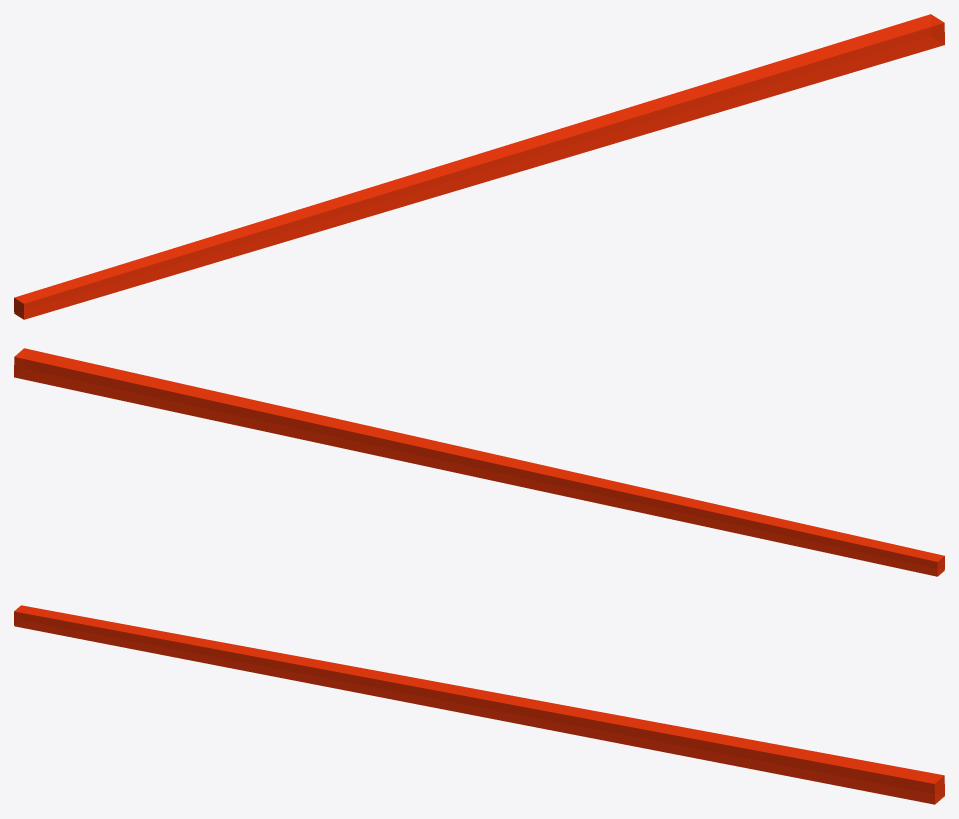
File: Event_420107950_EErechit_51.fbx
The picture shows the model from 3 angles, top to bottom: view 1: azimuth 30°, elevation 25°; view 2: azimuth 150°, elevation 25°; view 3: azimuth 330°, elevation 25°; orthographic projection. The views are drawn at different scales.
Parts seen in each view (by area): view 1: Model; view 2: Model; view 3: Model.
Boxes of the visible parts, left/top/right/bottom form: Model: left=14, top=14, right=944, bottom=319; Model: left=14, top=348, right=944, bottom=576; Model: left=14, top=605, right=944, bottom=804.
Size of the model in its own units: 4.55 by 0.1586 by 0.4154.
